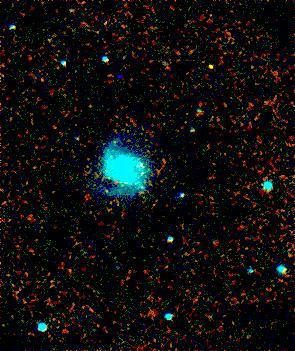star: (196, 52, 226, 82)
